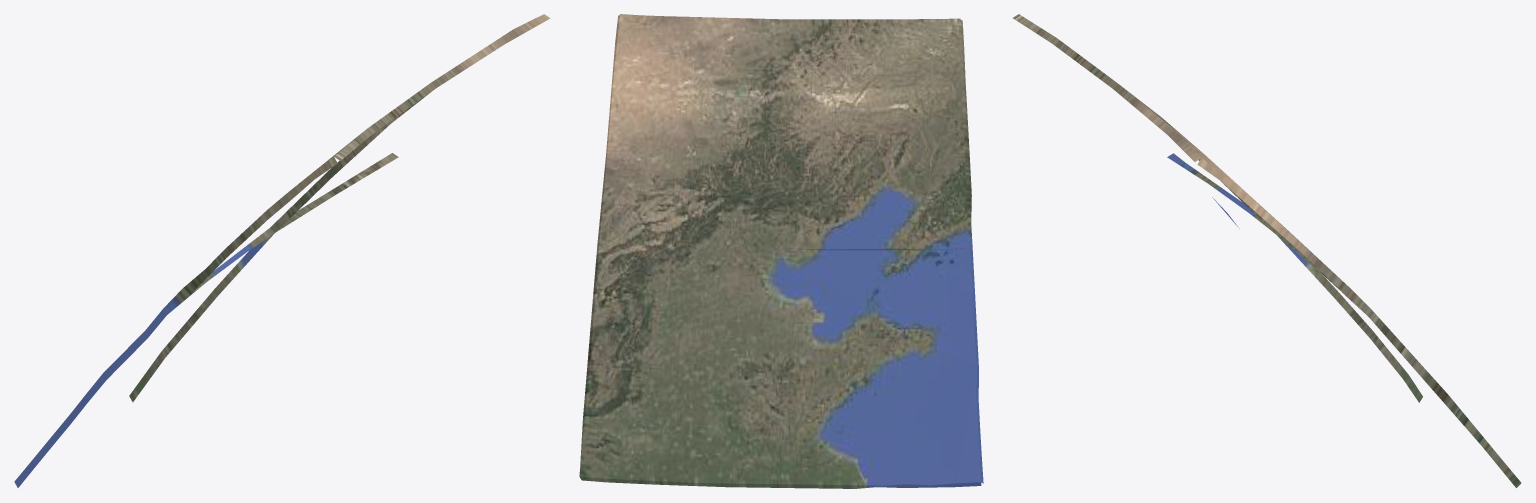
3 renders of one model, left to right at view 1: azimuth 30°, elevation 25°; view 2: azimuth 150°, elevation 25°; view 3: azimuth 270°, elevation 25°, orthographic. The views are drawn at different scales.
Bounding box in the file's own units: 1238222 × 983807 × 1168707.
1 material, 1 textured.
